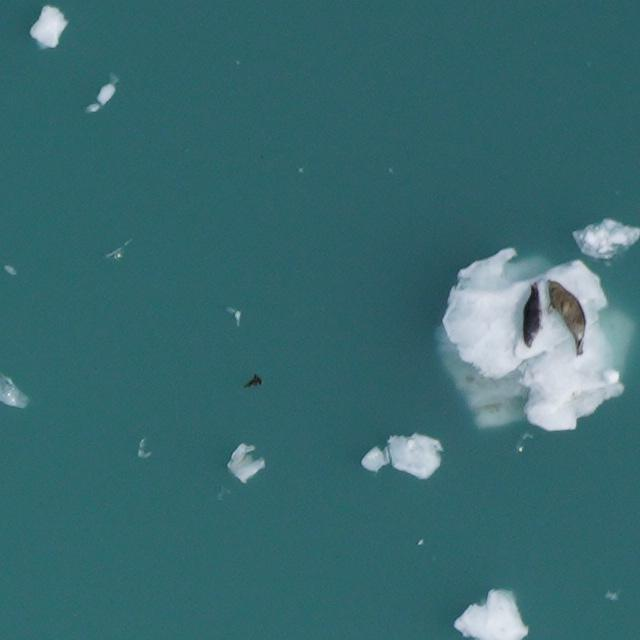seal: (534, 271, 603, 362), (520, 281, 544, 350)
